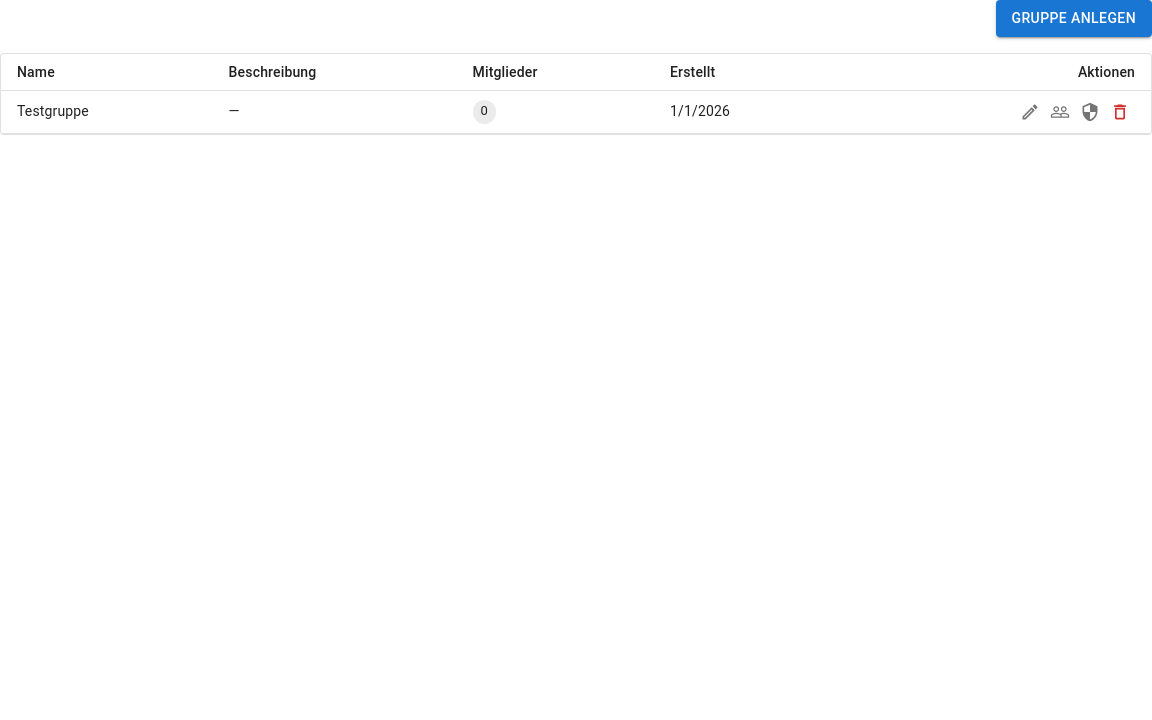
it: PermissionsDialog — grouped table › shows one row per folder, not one per entry
This screenshot has width=1152, height=720.
expect the text "Testgruppe" is shown: met, box [1,90,213,133]
Click the button named "Rechte" at [1090, 112], box [1075,96,1105,126]
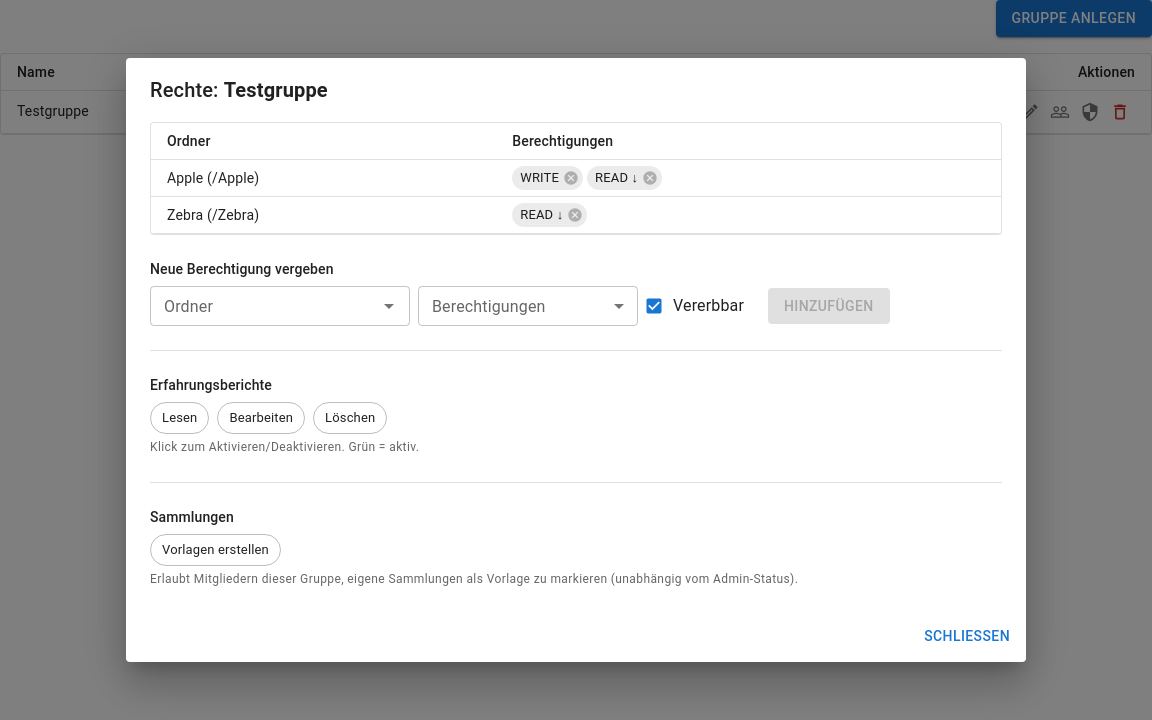
expect the text "Apple (/Apple)" is shown: met, box [151,160,496,196]
